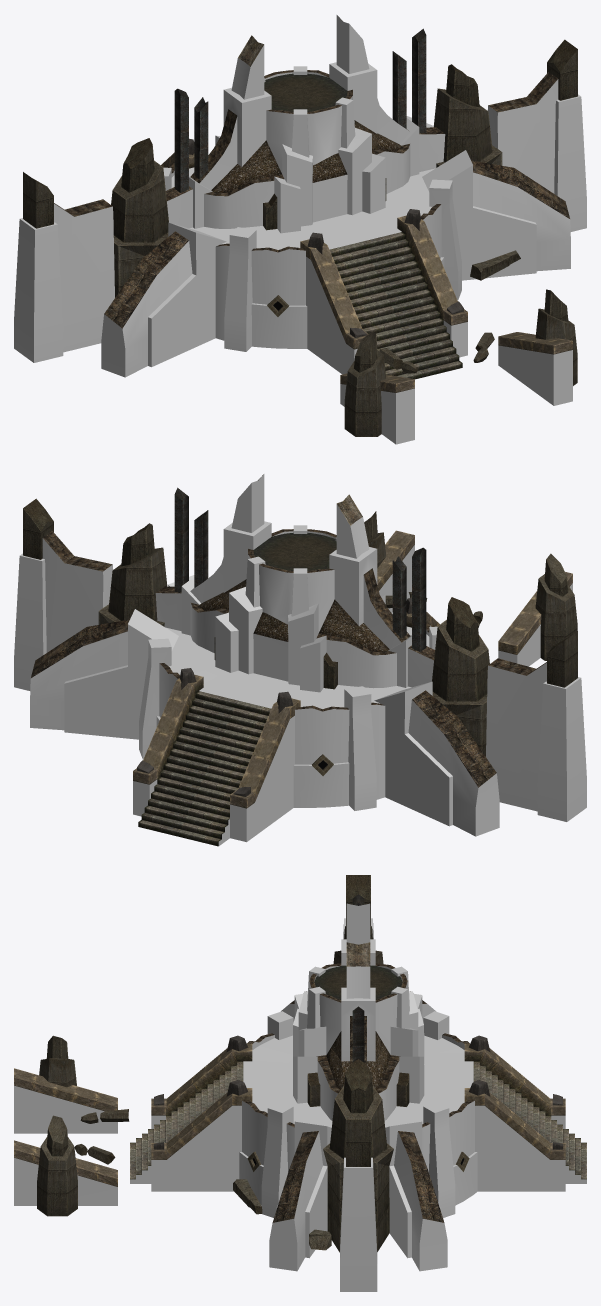
3 views of the same model, one above another, from view 1: azimuth 30°, elevation 25°; view 2: azimuth 150°, elevation 25°; view 3: azimuth 270°, elevation 25° (orthographic). The views are drawn at different scales.
Visible parts, largest first — view 1: Ruins_02; view 2: Ruins_02; view 3: Ruins_02.
Part boxes in pixels (bbox=[...]): Ruins_02: bbox=[14, 15, 586, 444]; Ruins_02: bbox=[14, 474, 586, 846]; Ruins_02: bbox=[14, 875, 586, 1291].
Size of the model in its own units: 3000 by 2874 by 1343.
